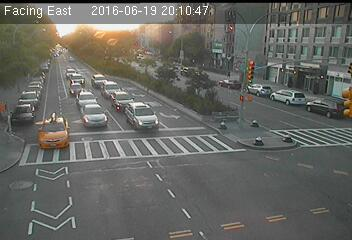neg: (53, 42, 67, 61)
